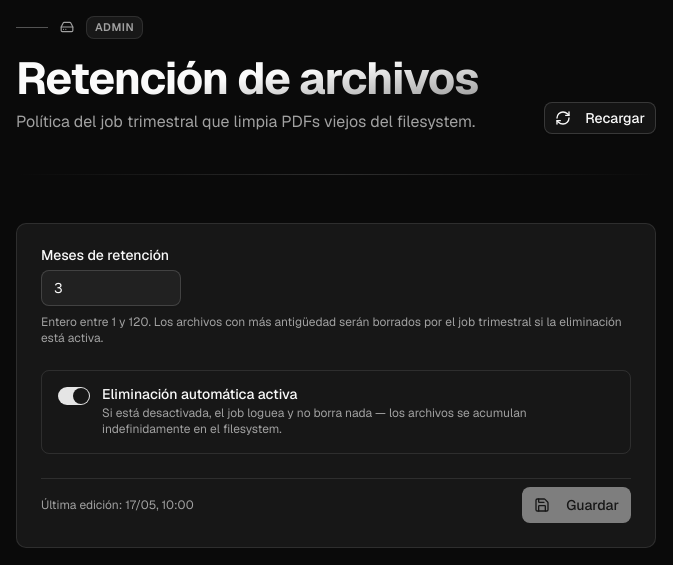
AdminConfiguracionArchivosPage › guardar es disabled si el valor no es válido (fuera de [1, 120])
Replace the text in the number field labelled "Meses de retención" with "0" at (111, 288), box [41,270,181,306]
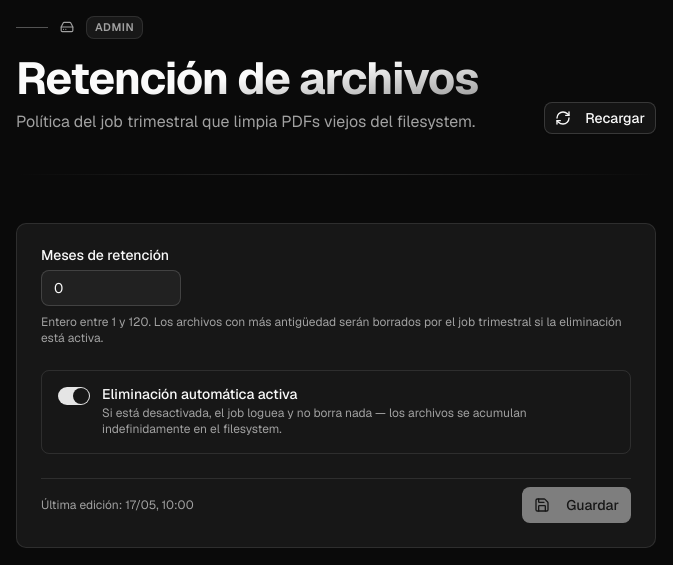
Check: the button "Guardar" is disabled, box [522,486,631,522]
Replace the text in the number field labelled "Meses de retención" with "121" at (111, 288), box [41,270,181,306]
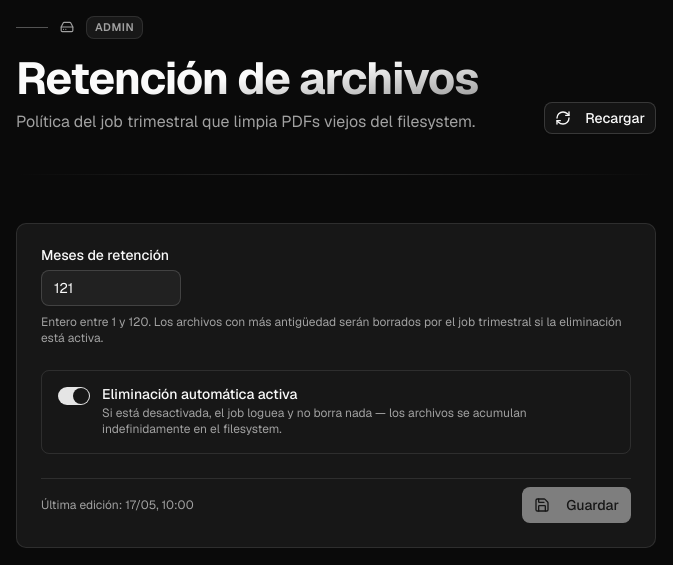
Check: the button "Guardar" is disabled, box [522,486,631,522]
Replace the text in the number field labelled "Meses de retención" with "12" at (111, 288), box [41,270,181,306]
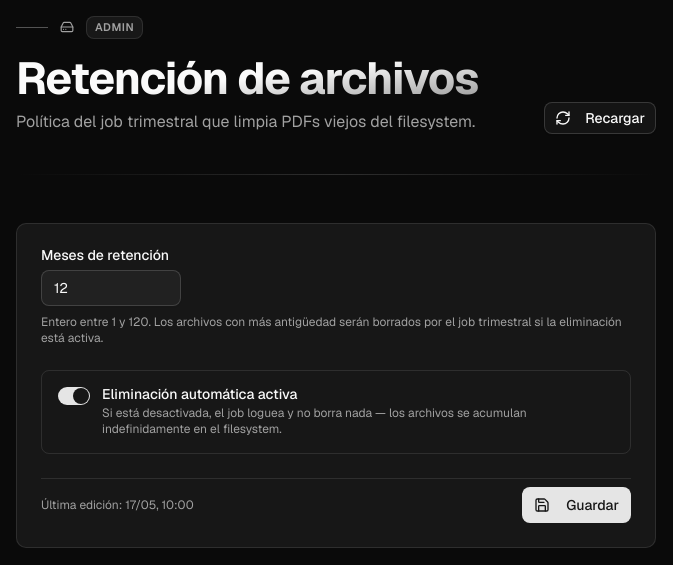
Check: the button "Guardar" is enabled, box [522,486,631,522]
